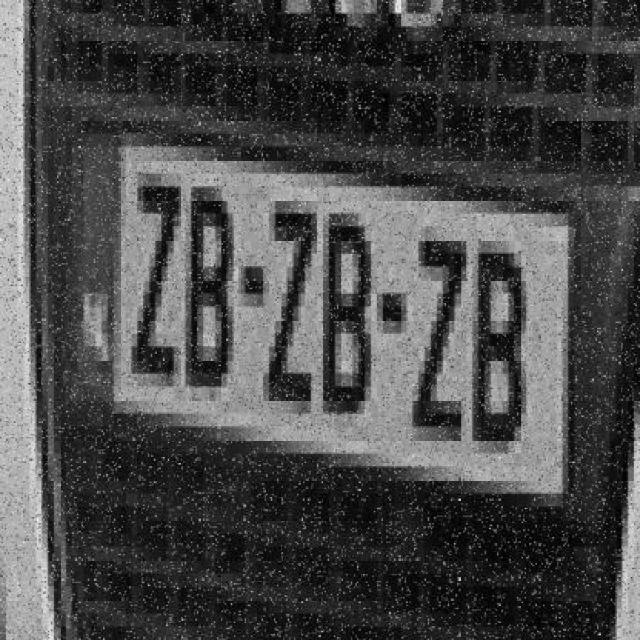licenseplate: (64, 84, 584, 539)
